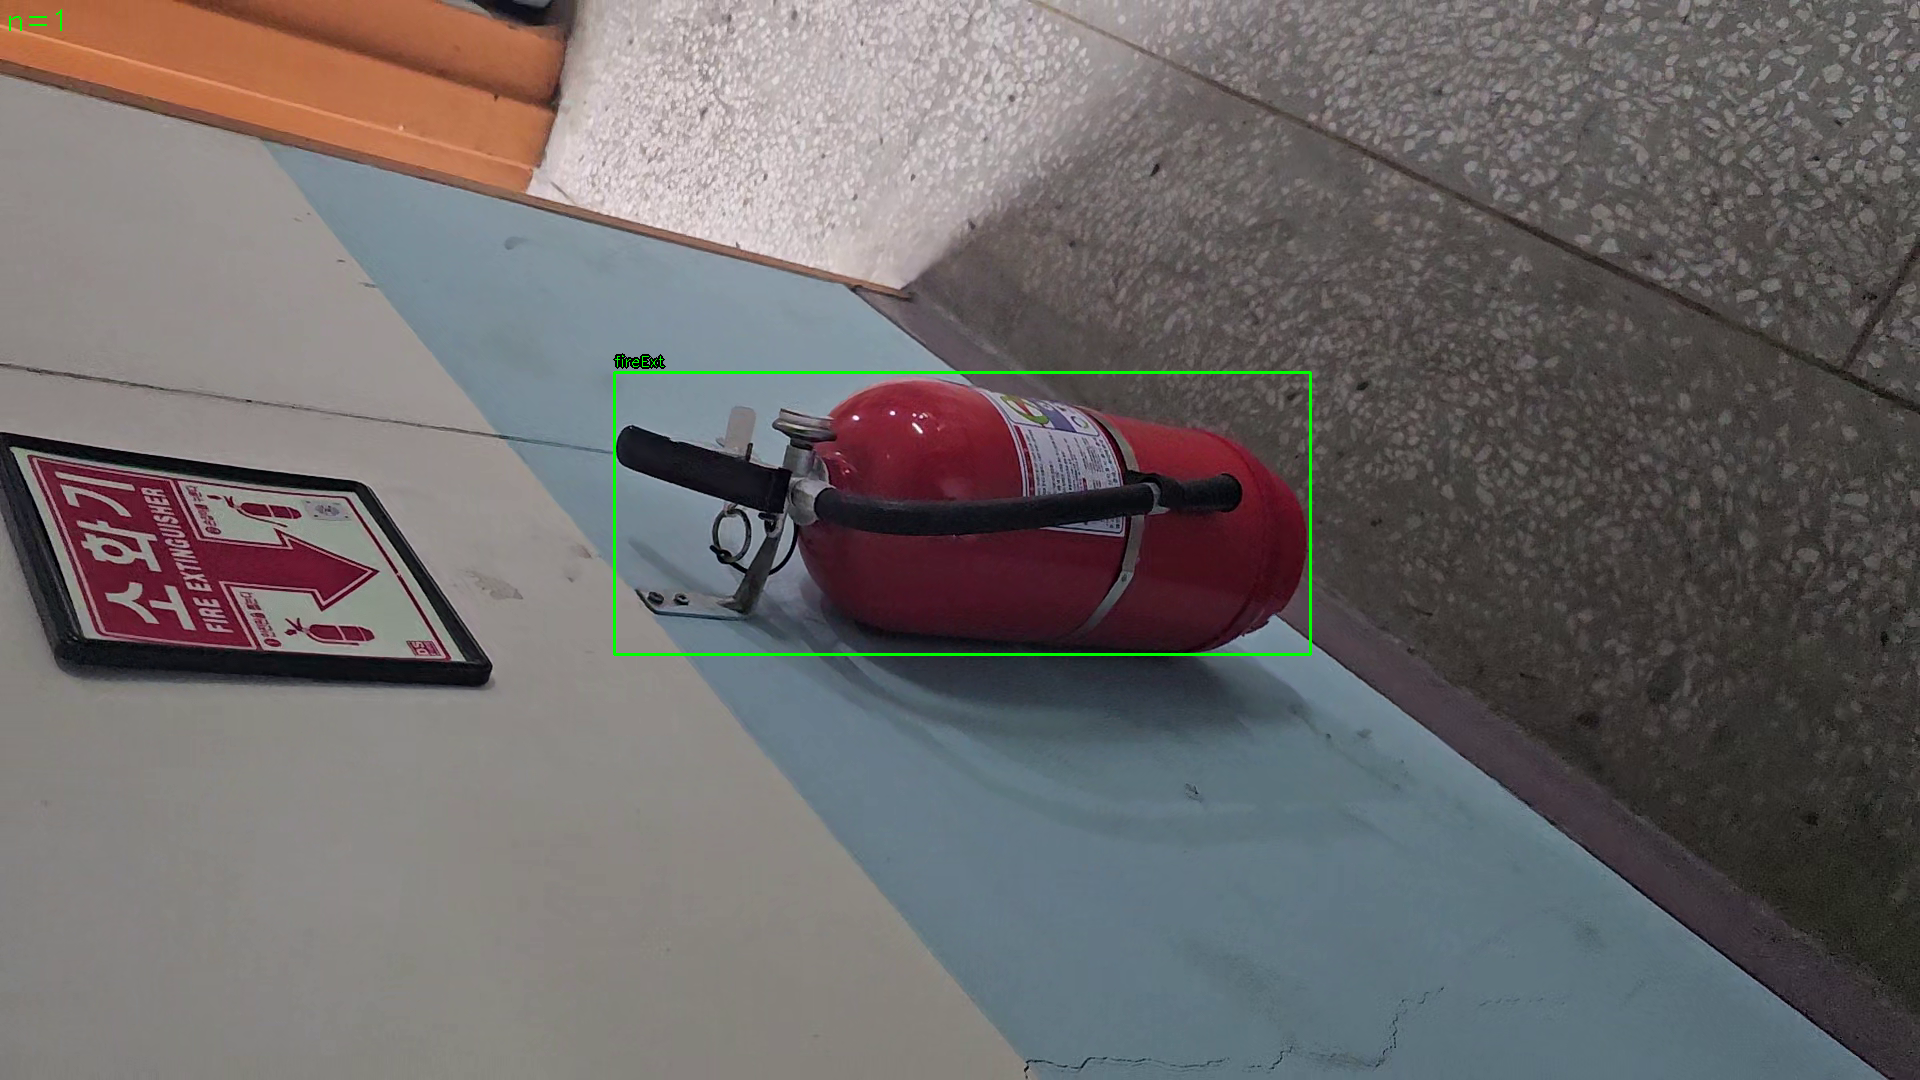lane: (615, 372, 1311, 655)
